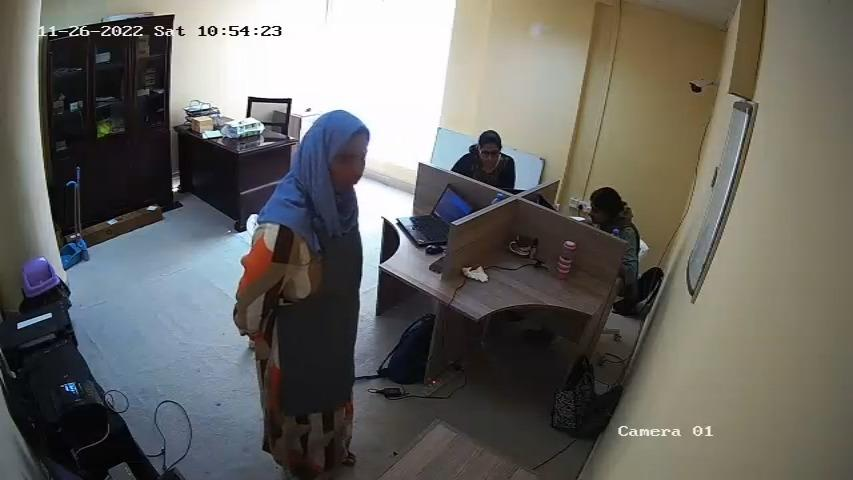apron: (264, 200, 363, 413), (445, 132, 446, 133)
